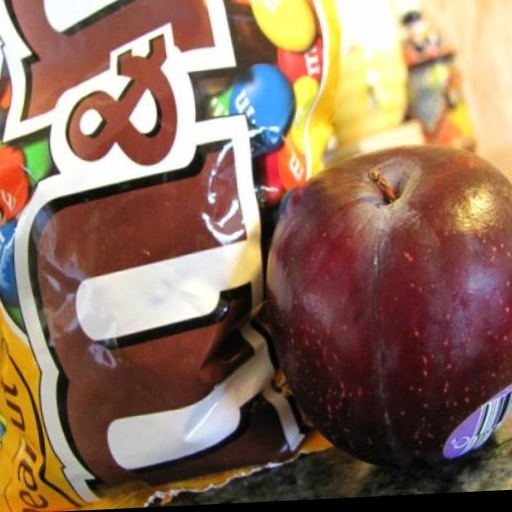fruit: (268, 146, 512, 465)
